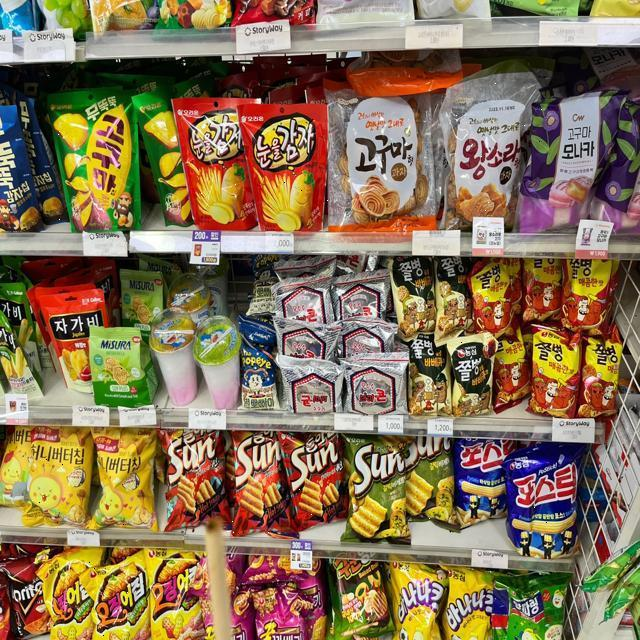product: (336, 79, 434, 238), (438, 79, 529, 227), (51, 85, 138, 234), (240, 105, 329, 232), (177, 94, 252, 231), (503, 444, 585, 553), (528, 95, 597, 221), (344, 433, 412, 547), (166, 430, 230, 529), (29, 428, 91, 530), (232, 430, 290, 539), (96, 430, 157, 530), (84, 552, 150, 640), (289, 433, 342, 522), (89, 326, 147, 402), (532, 321, 579, 413), (409, 434, 457, 522), (446, 335, 496, 415), (281, 362, 344, 417)
